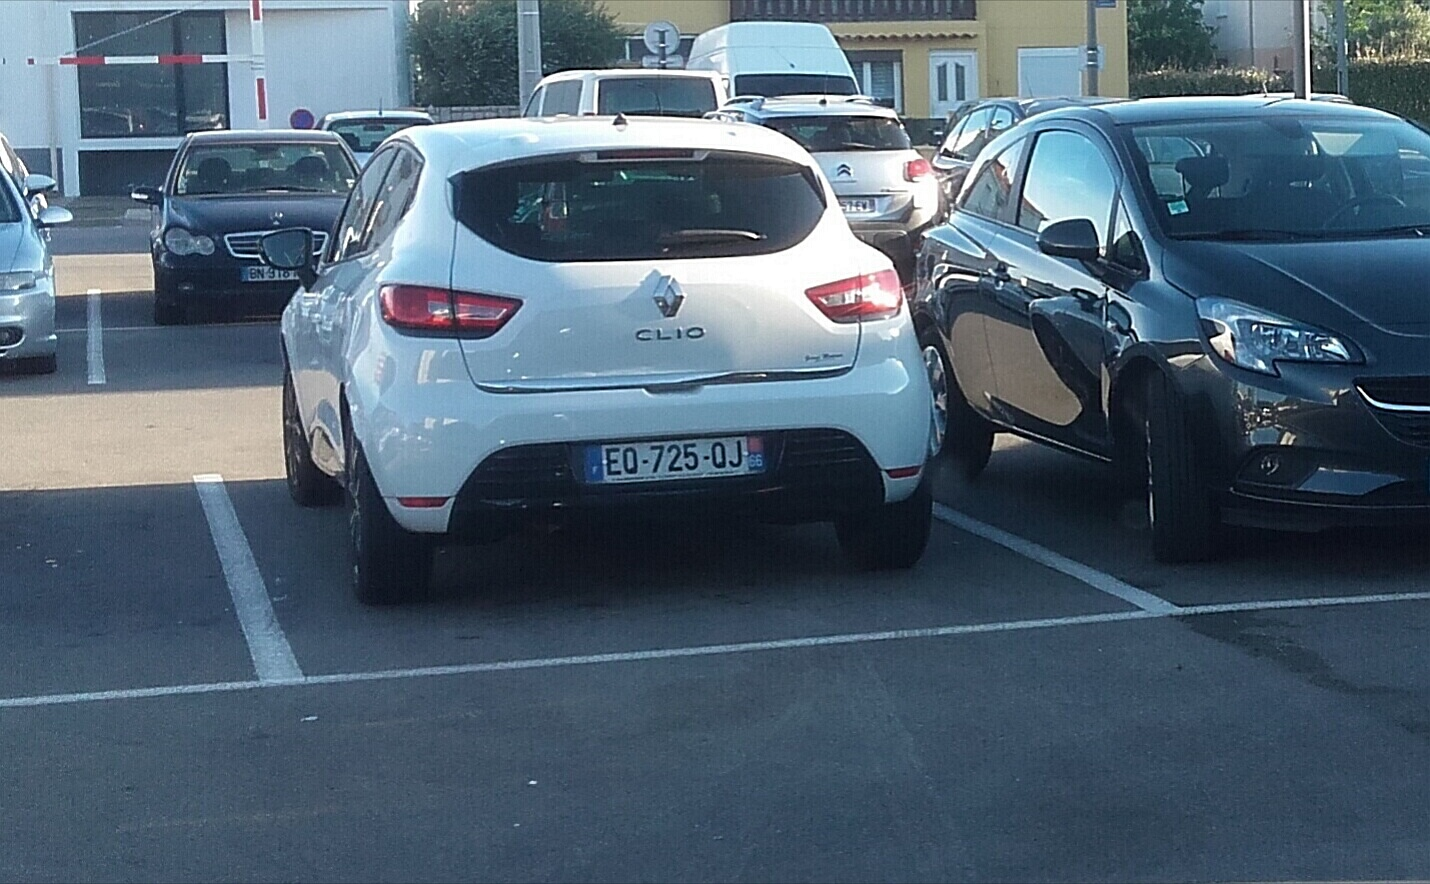licence plate: (579, 434, 770, 489)
